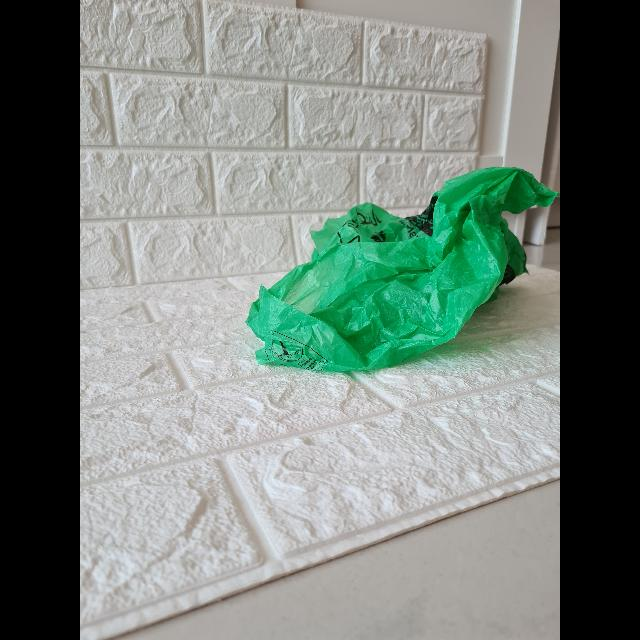plastic_bag: (238, 144, 560, 396)
